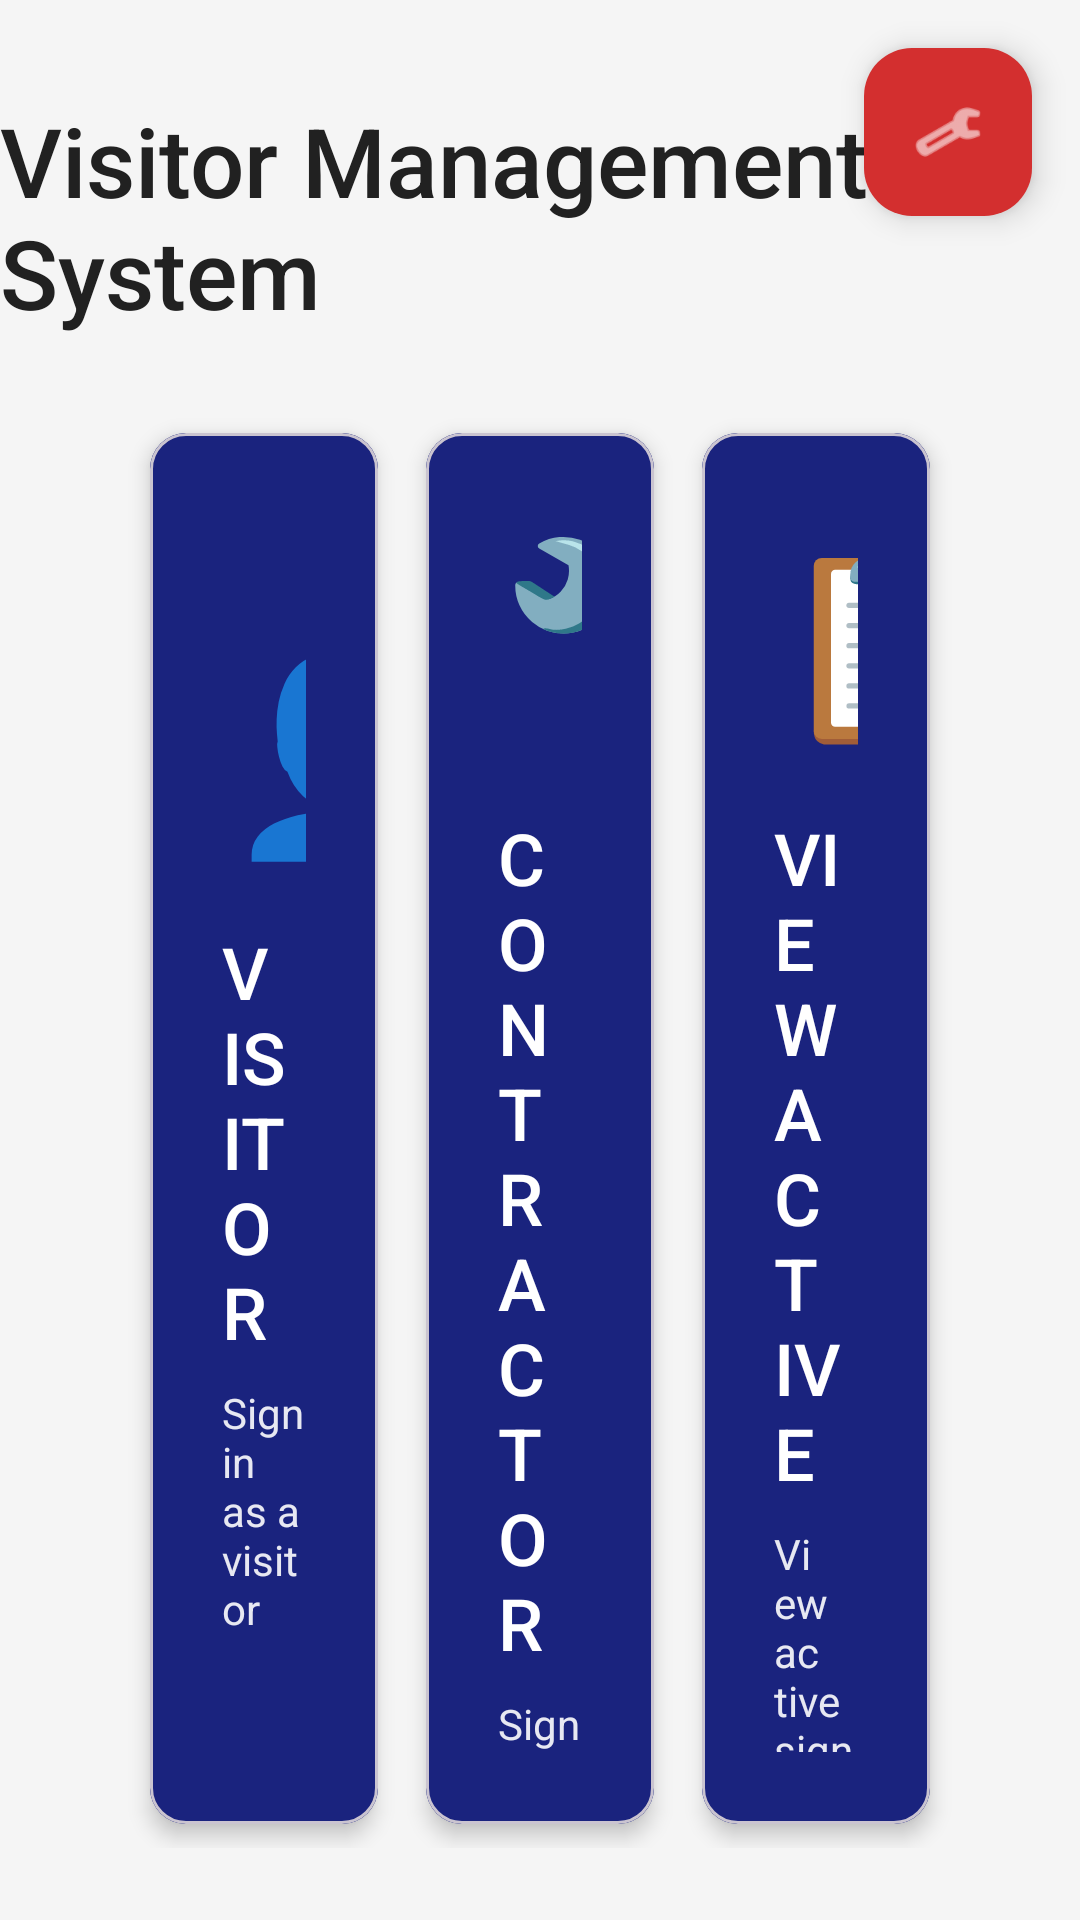

Icons on this 1080px x 1920px Android screen, each with its box as (x1, y1, x2, y2):
Admin Dashboard: (864, 48, 1032, 216)
